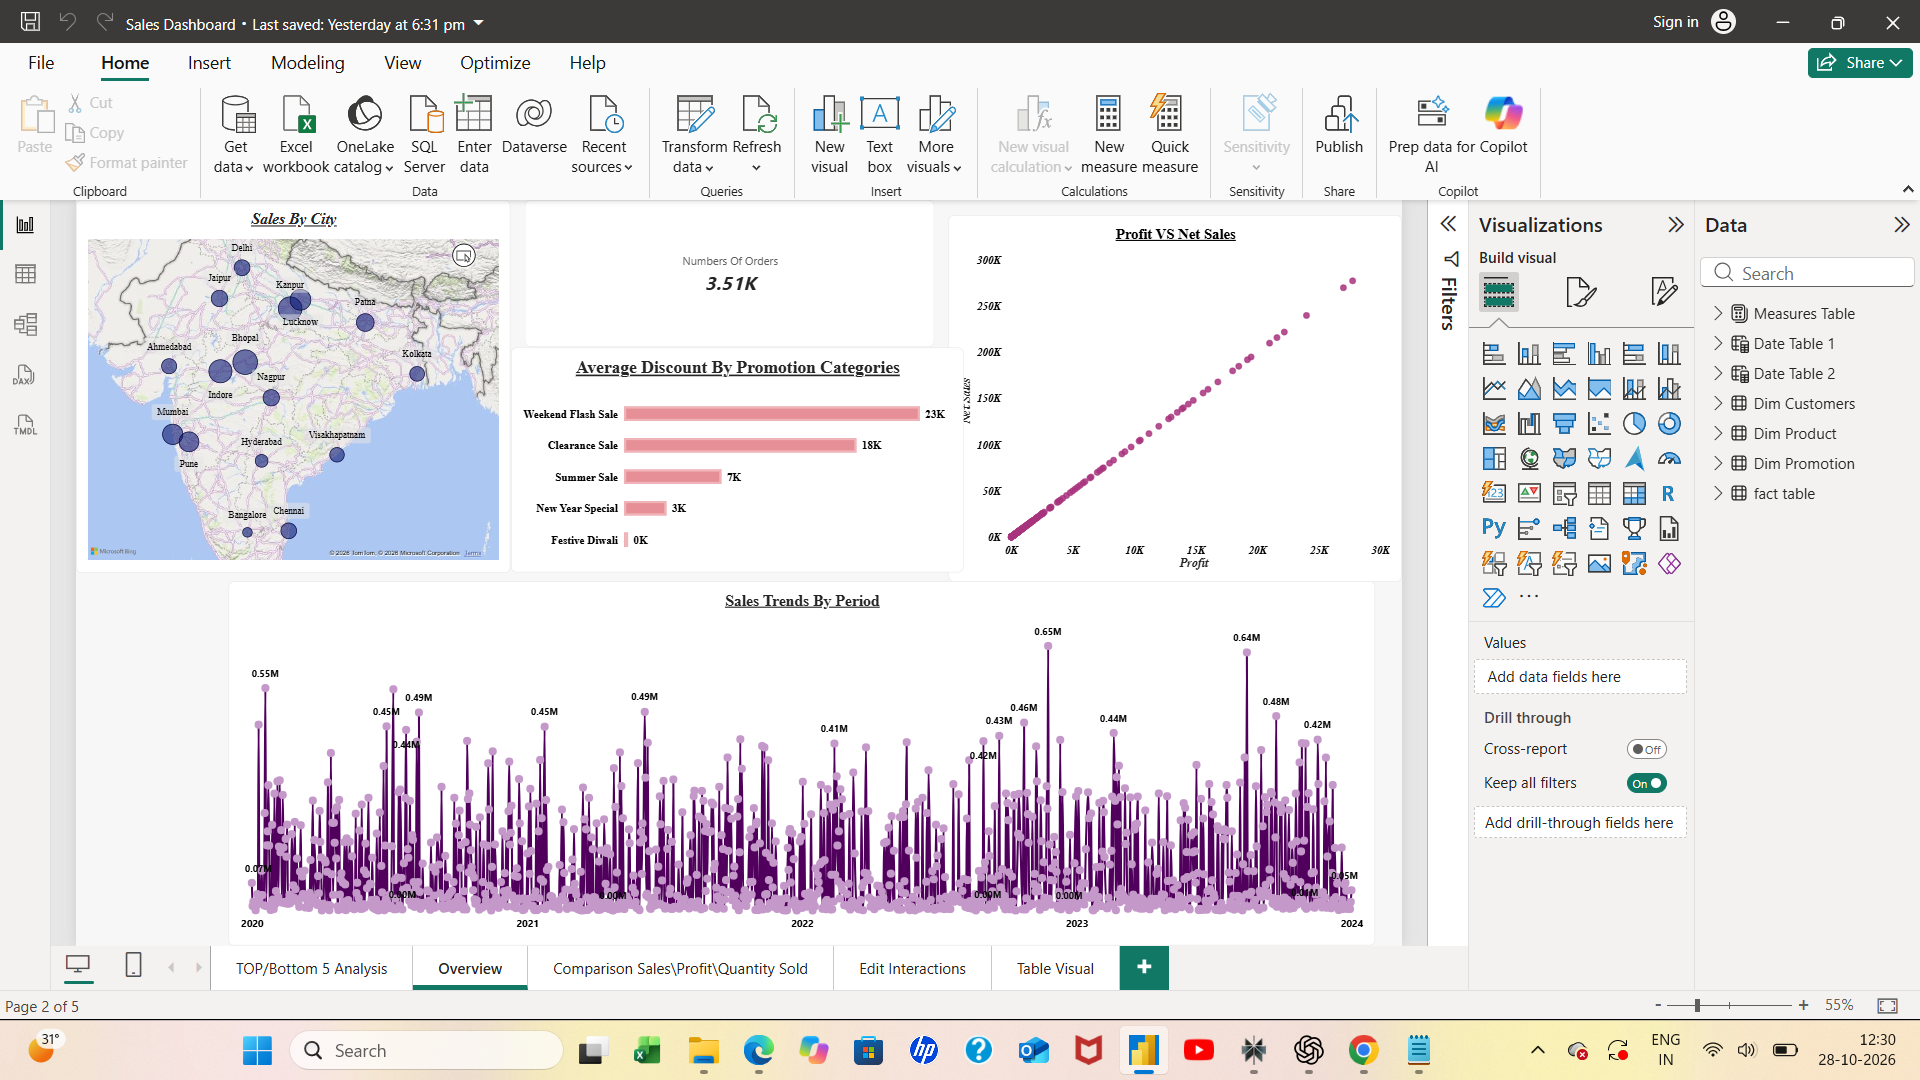

What the dashboard file says about the page in this screenshot:
{"tool":"powerbi","page":{"name":"Overview","canvas":[1920,1080],"ordinal":1},"visuals":[{"type":"lineChart","title":"Sales Trends By Period","fields":{"Category":["fact table.Date (dd/mm/yyyy).Variation.Date Hierarchy.Year"],"Y":["Sum(fact table.Net Sales  )"]},"box":[220,552.7,1660,527.3],"z":0},{"type":"scatterChart","title":"Profit VS Net Sales  ","fields":{"X":["fact table.Profit"],"Y":["fact table.Net Sales  "]},"box":[1263.6,21.8,656.4,530.9],"z":1},{"type":"barChart","title":"Average Discount By Promotion Categories","fields":{"Category":["Dim Promotion.Promotion Name"],"Y":["Avg(fact table.Discount Value  )"]},"box":[629.8,213.5,655.1,325.7],"z":2},{"type":"map","title":" Sales By City","fields":{"Category":["Dim Customers.City"],"Size":["Sum(fact table.Net Sales  )"]},"box":[0,0,629.1,540],"z":3},{"type":"cardVisual","fields":{"Data":["Count(fact table.Order ID)"]},"box":[649.7,0,593.6,213.5],"z":4}]}

Visuals, with their boxes on the page's 1920x1080 design canvas (x1, y1, x2, y2). These are canvas units, not pixel positions in the 1920x1080 screenshot, which may show the page scaled, cropped or inside an application window:
"Sales Trends By Period" lineChart: <bbox>220, 553, 1880, 1080</bbox>
"Profit VS Net Sales  " scatterChart: <bbox>1264, 22, 1920, 553</bbox>
"Average Discount By Promotion Categories" barChart: <bbox>630, 214, 1285, 539</bbox>
" Sales By City" map: <bbox>0, 0, 629, 540</bbox>
cardVisual - Count(fact table.Order ID): <bbox>650, 0, 1243, 214</bbox>
